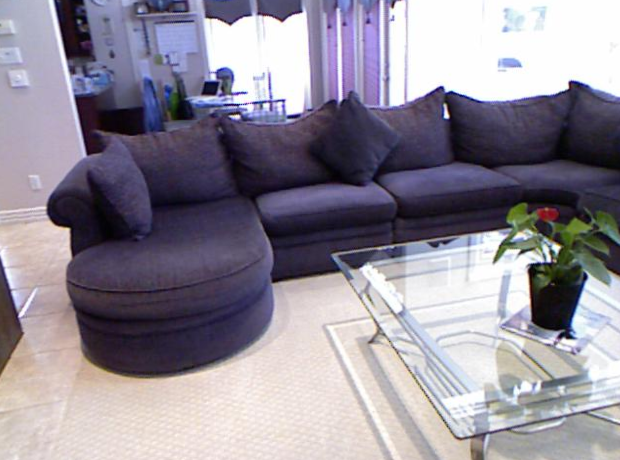couch: (46, 136, 275, 355), (279, 103, 619, 230)
table: (331, 226, 620, 458)
window: (258, 2, 307, 70), (206, 3, 256, 67)
